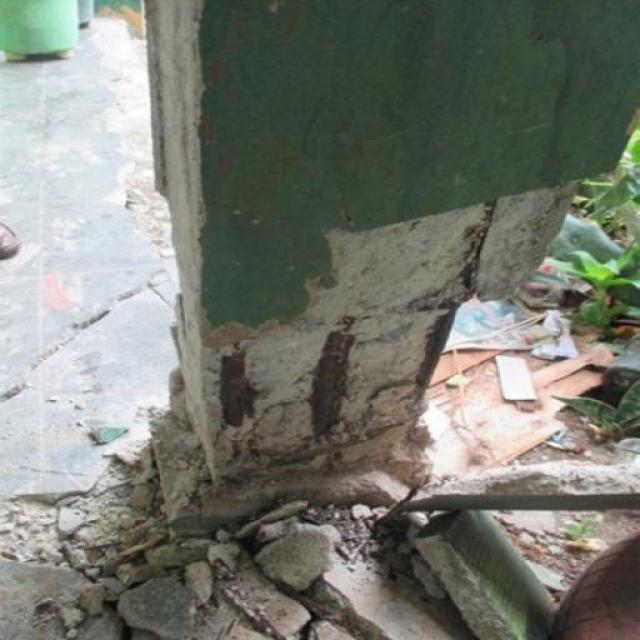D0w0: (202, 185, 571, 482)
